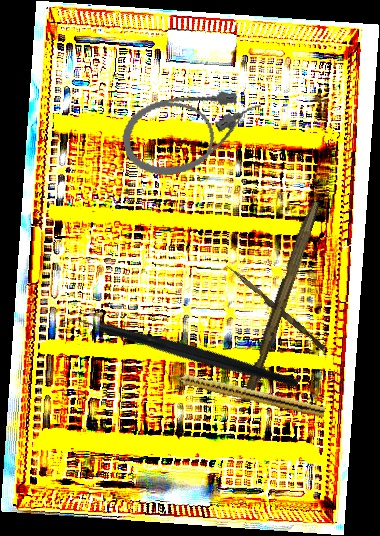Cannula: (116, 81, 272, 183)
Chopper: (56, 246, 301, 463)
Handpiece: (161, 366, 327, 418)
Pusher: (224, 265, 328, 351)
Scalpel Handle: (240, 198, 321, 404)
